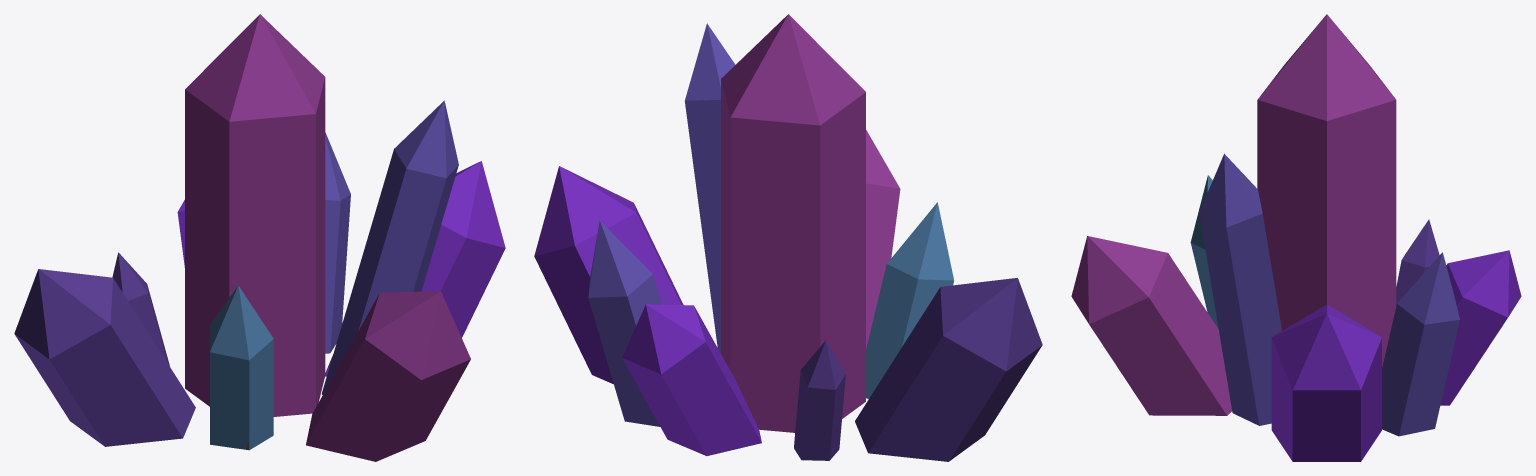
Rendered from ms_CrystalCluster01.fbx.
3 renders of one model, left to right at view 1: azimuth 30°, elevation 25°; view 2: azimuth 150°, elevation 25°; view 3: azimuth 270°, elevation 25°, orthographic. The views are drawn at different scales.
Parts seen in each view (by area): view 1: polySurface13; view 2: polySurface13; view 3: polySurface13.
Part boxes in pixels (x1,y1,x2,y2): polySurface13: (14, 14, 505, 461); polySurface13: (534, 14, 1042, 461); polySurface13: (1071, 14, 1521, 461).
Bounding box in the file's own units: 126 × 100 × 111.
